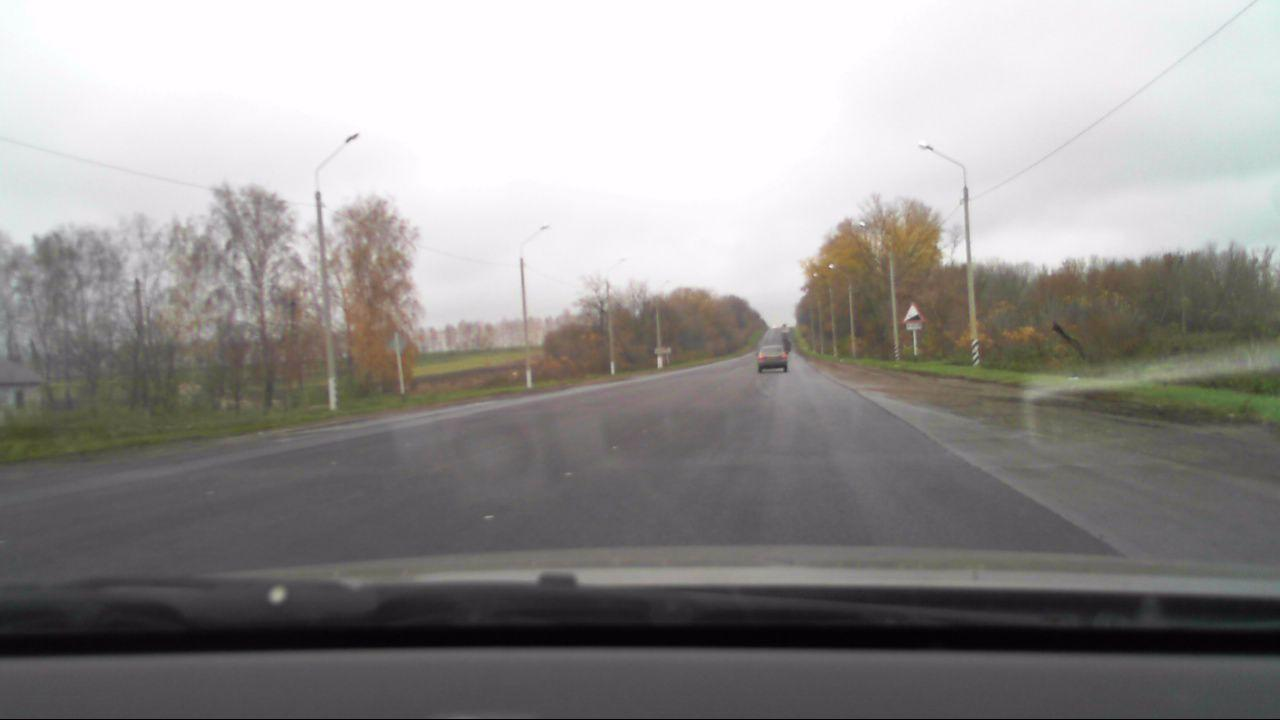1_14: (903, 302, 924, 322)
8_2_1: (905, 323, 923, 331)
